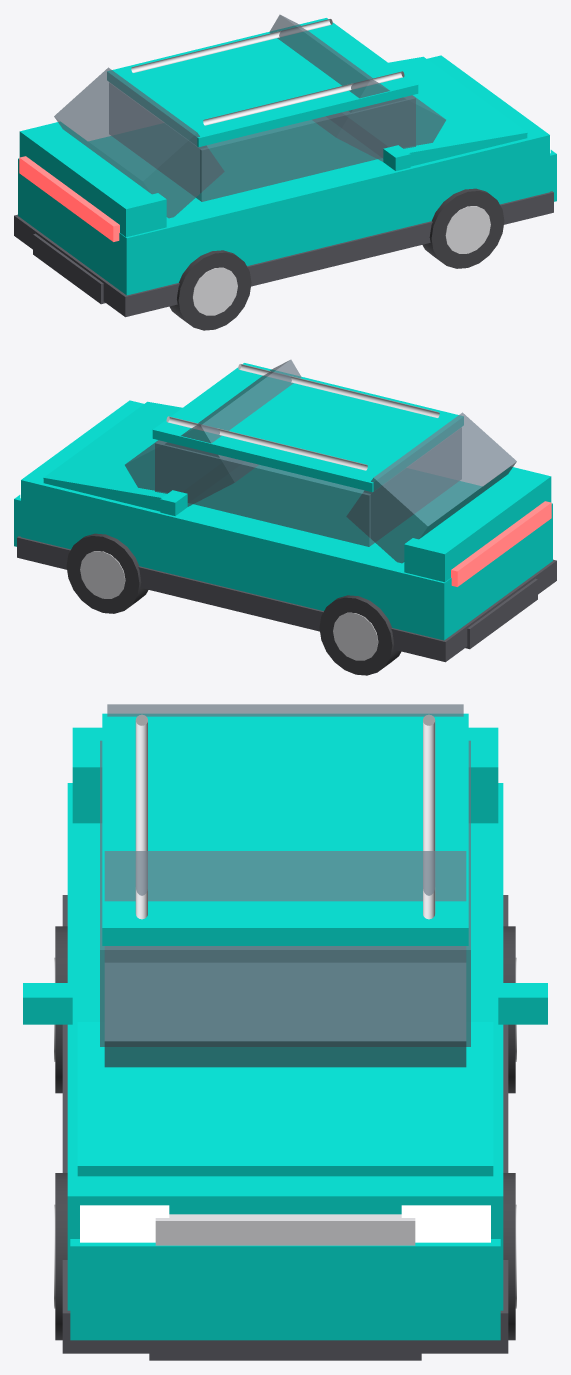
File: compact_suv.glb
3 views of the same model, one above another, from view 1: azimuth 30°, elevation 25°; view 2: azimuth 150°, elevation 25°; view 3: azimuth 270°, elevation 25° (orthographic). The views are drawn at different scales.
Visible parts, largest first — view 1: Body, Glass, Cladding, Wheel_RL, Wheel_FL, Chrome, Taillight, Rim_RL, Rim_FL; view 2: Body, Glass, Cladding, Wheel_RR, Wheel_FR, Chrome, Taillight, Rim_RR, Rim_FR; view 3: Body, Glass, Chrome, Cladding, Headlight, Wheel_FL, Wheel_FR, Wheel_RL, Wheel_RR.
Boxes of the visible parts, x1,y1,x2,y2 form: Body: [18, 18, 556, 295]; Glass: [54, 14, 445, 218]; Cladding: [14, 191, 553, 317]; Wheel_RL: [169, 250, 251, 330]; Wheel_FL: [422, 188, 504, 268]; Chrome: [131, 19, 404, 125]; Taillight: [19, 156, 119, 241]; Rim_RL: [192, 267, 237, 315]; Rim_FL: [445, 206, 490, 253]; Body: [14, 363, 552, 640]; Glass: [125, 359, 516, 563]; Cladding: [17, 536, 556, 662]; Wheel_RR: [319, 595, 401, 675]; Wheel_FR: [66, 533, 148, 613]; Chrome: [166, 364, 439, 470]; Taillight: [451, 501, 551, 586]; Rim_RR: [333, 612, 378, 660]; Rim_FR: [80, 551, 125, 598]; Body: [23, 713, 547, 1340]; Glass: [100, 704, 470, 1067]; Chrome: [135, 714, 435, 1245]; Cladding: [62, 895, 508, 1360]; Headlight: [80, 1205, 490, 1242]; Wheel_FL: [55, 1173, 67, 1340]; Wheel_FR: [503, 1173, 515, 1340]; Wheel_RL: [55, 926, 67, 1093]; Wheel_RR: [503, 926, 515, 1093].
Size of the model in its own units: 4.08 by 1.78 by 2.12.
